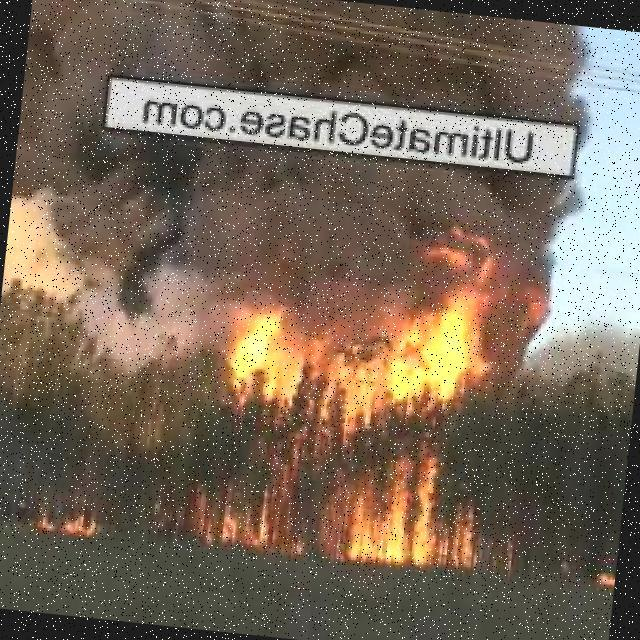Fire: (200, 200, 537, 578), (19, 502, 106, 536)
